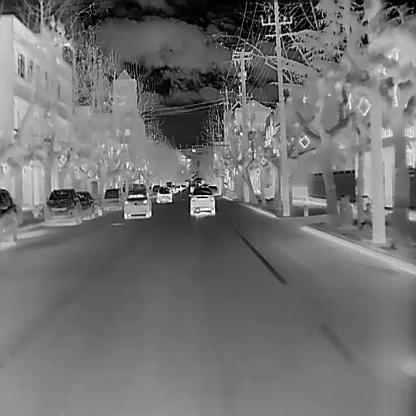car: (44, 187, 81, 224), (0, 187, 20, 242), (122, 188, 152, 217), (188, 187, 214, 216), (74, 191, 95, 220), (102, 187, 122, 211), (155, 186, 171, 202)
